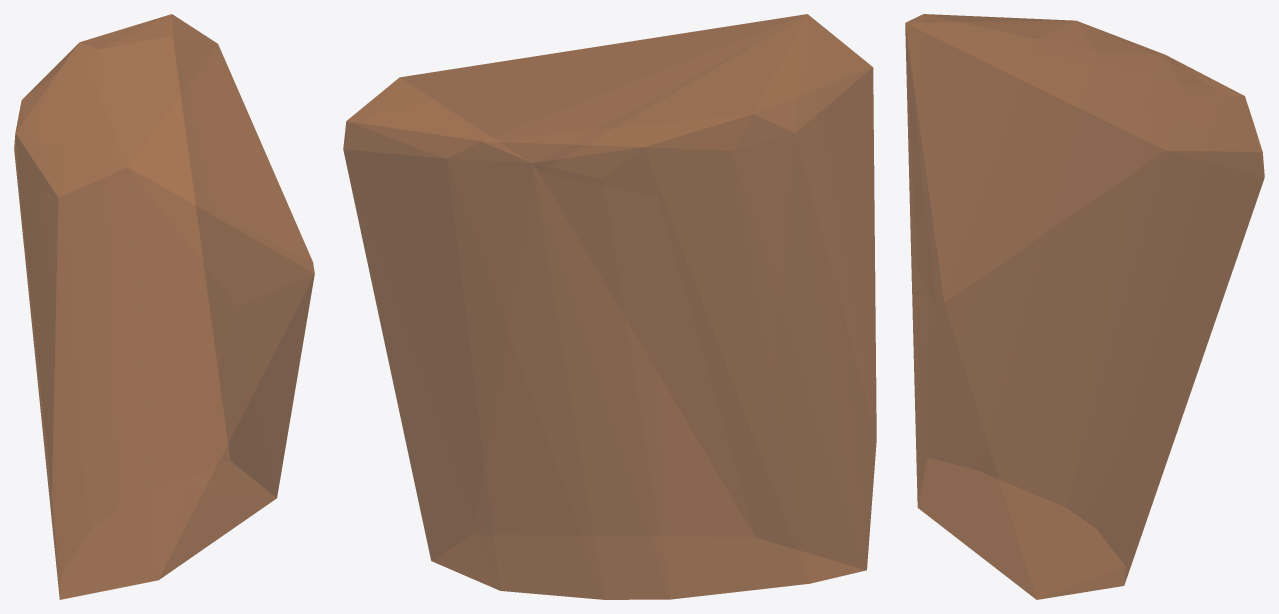
3 views of the same model, side by side, from view 1: azimuth 30°, elevation 25°; view 2: azimuth 150°, elevation 25°; view 3: azimuth 270°, elevation 25° (orthographic). The views are drawn at different scales.
Visible parts, largest first — view 1: Shape_IndexedFaceSet.005_Shape_IndexedFaceSet.1970; view 2: Shape_IndexedFaceSet.005_Shape_IndexedFaceSet.1970; view 3: Shape_IndexedFaceSet.005_Shape_IndexedFaceSet.1970.
Part boxes in pixels (x1=…): Shape_IndexedFaceSet.005_Shape_IndexedFaceSet.1970: x1=14, y1=14, x2=314, y2=599; Shape_IndexedFaceSet.005_Shape_IndexedFaceSet.1970: x1=343, y1=14, x2=876, y2=599; Shape_IndexedFaceSet.005_Shape_IndexedFaceSet.1970: x1=905, y1=14, x2=1264, y2=599.
Size of the model in its own units: 0.1861 by 0.2755 by 0.1929.
